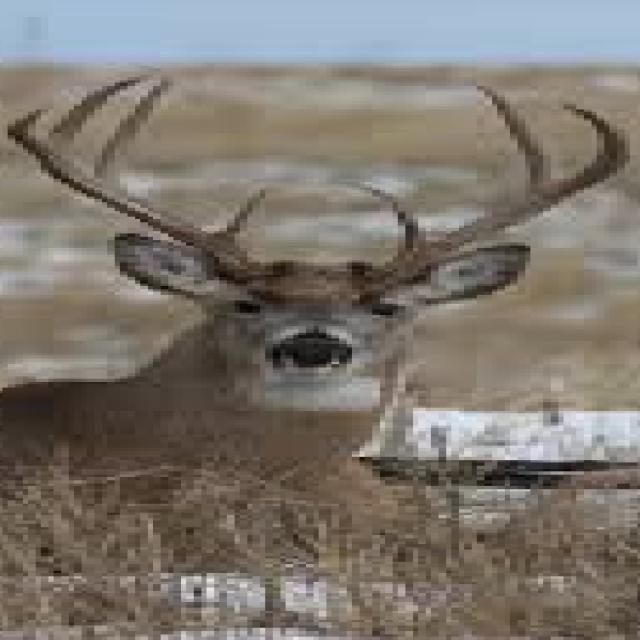L-G1: (331, 178, 429, 256)
L-G2: (471, 80, 556, 192)
L-G3: (379, 101, 633, 279)
R-F: (2, 104, 261, 271)
R-G1: (213, 188, 270, 241)
R-G2: (92, 74, 177, 199)
R-G3: (39, 73, 158, 159)
